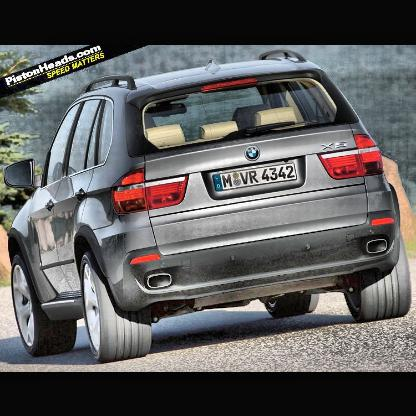BMW X5 SUV 2007: (6, 49, 414, 367)
